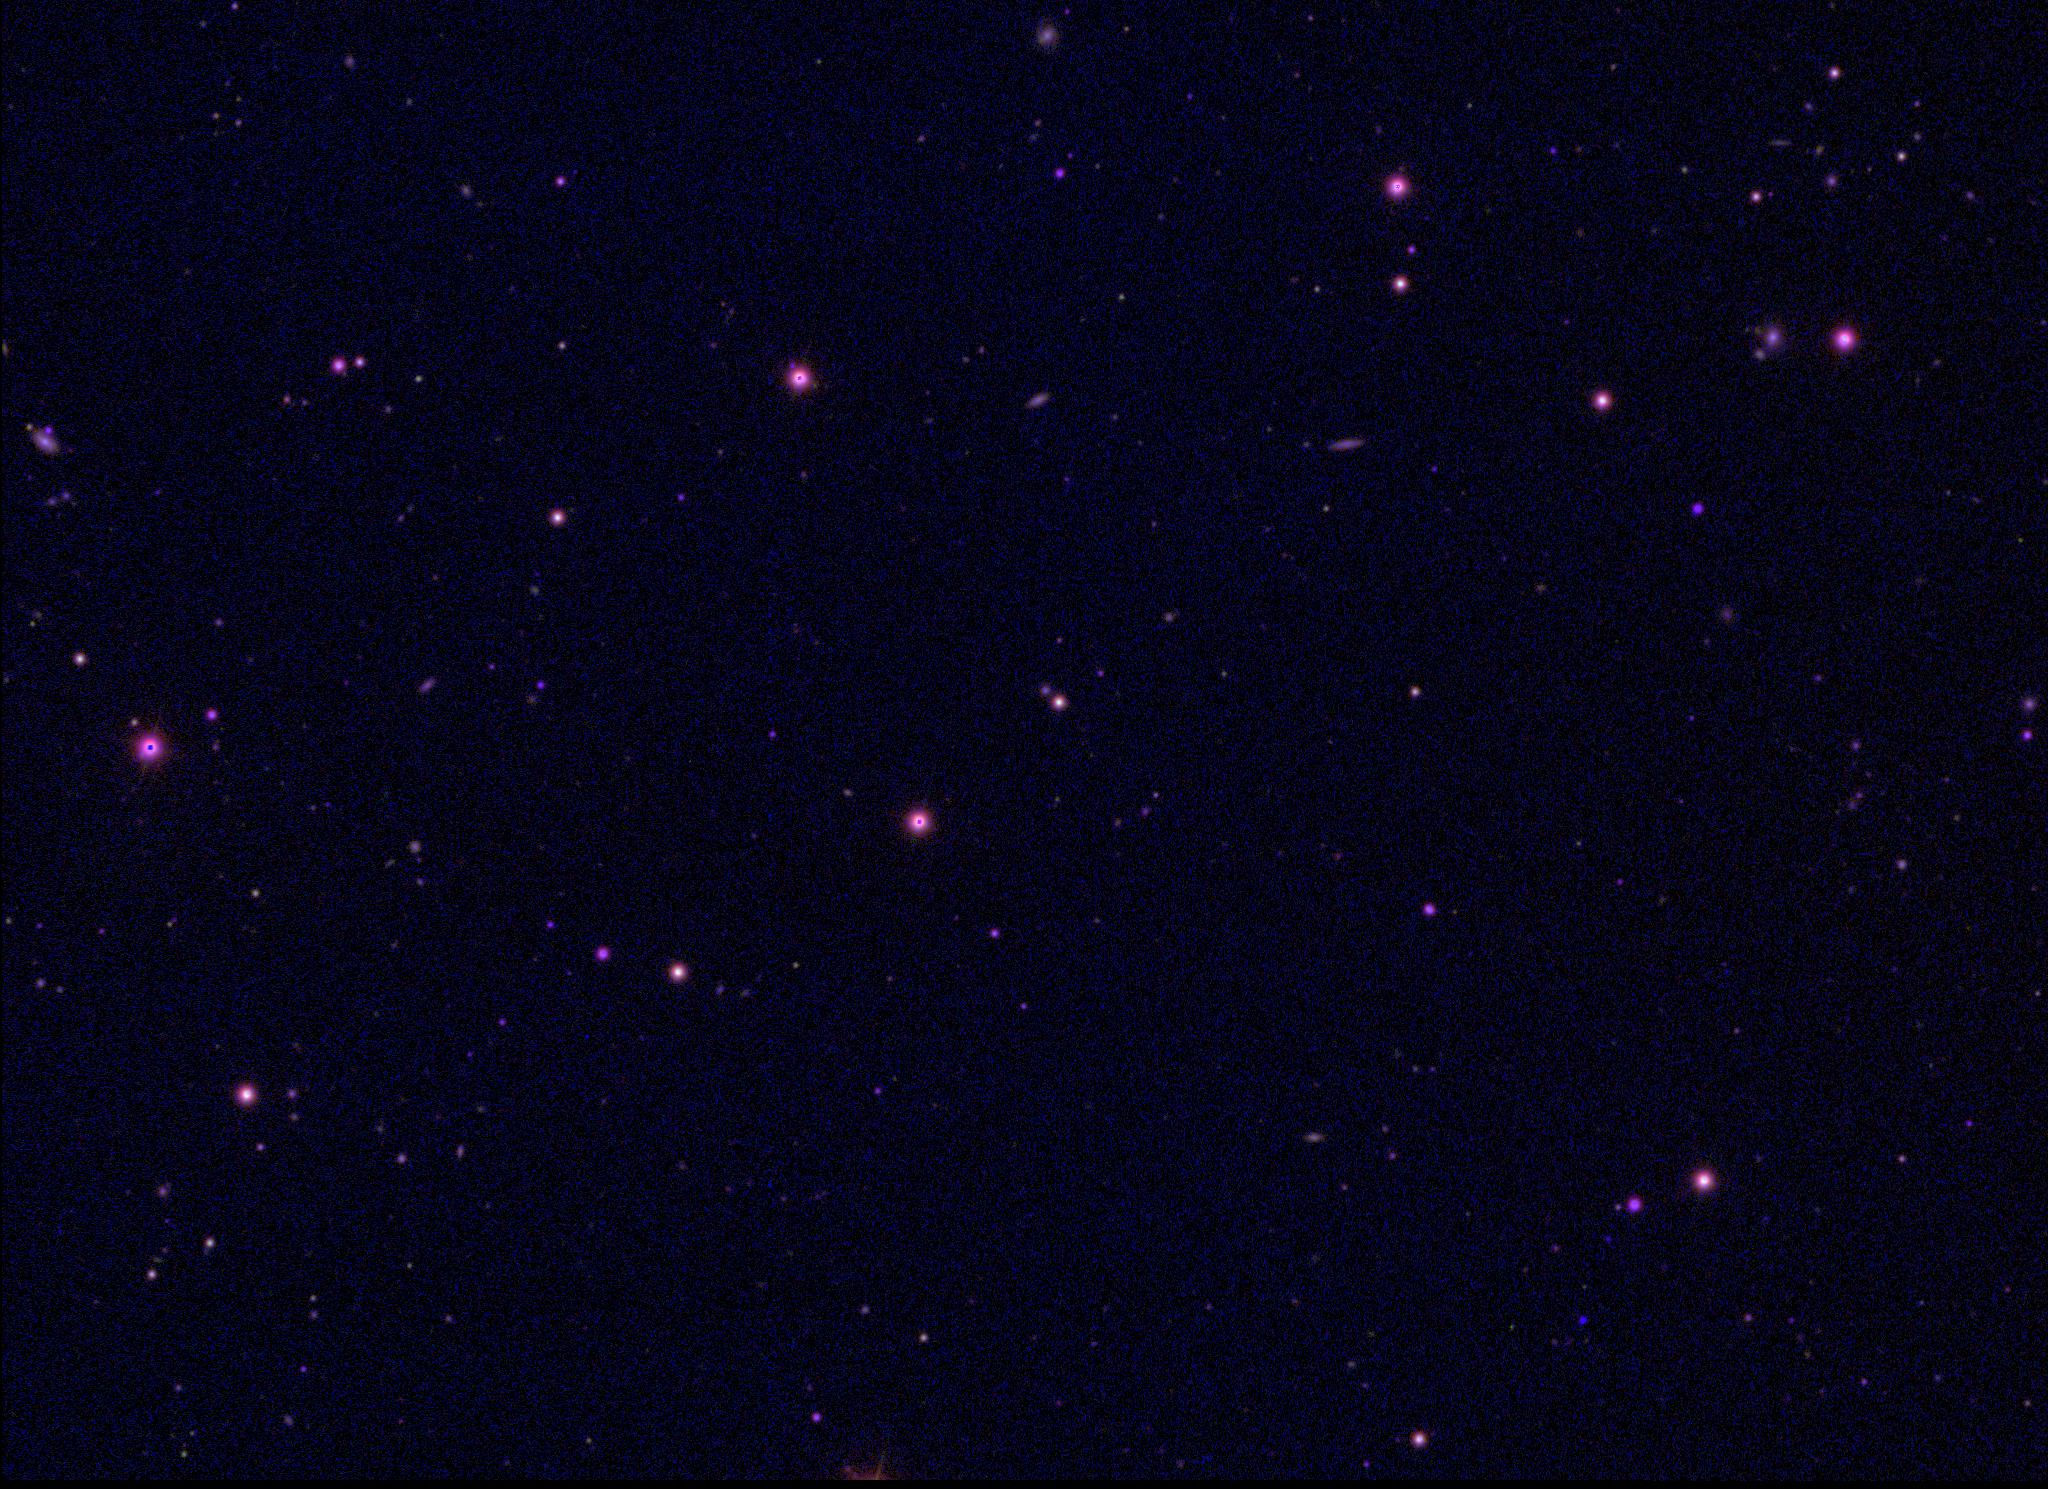L: (1576, 1312, 1588, 1327)
